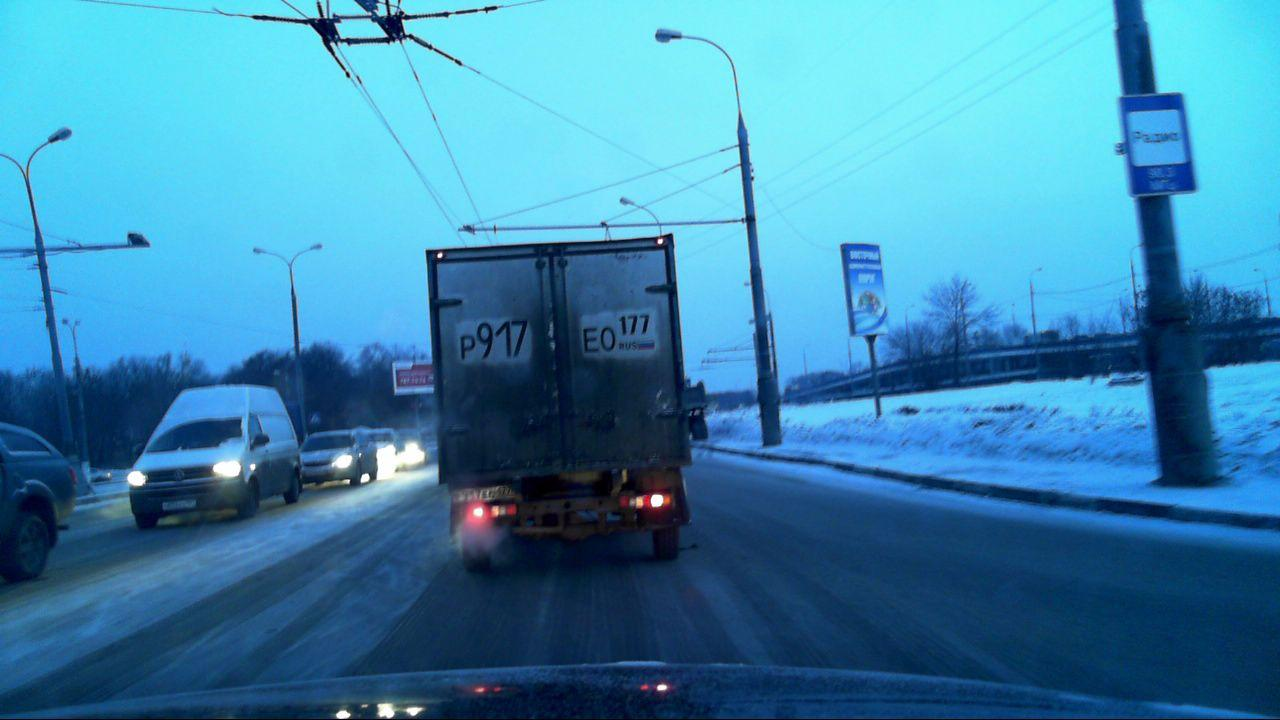7_15: (1117, 90, 1198, 197)
